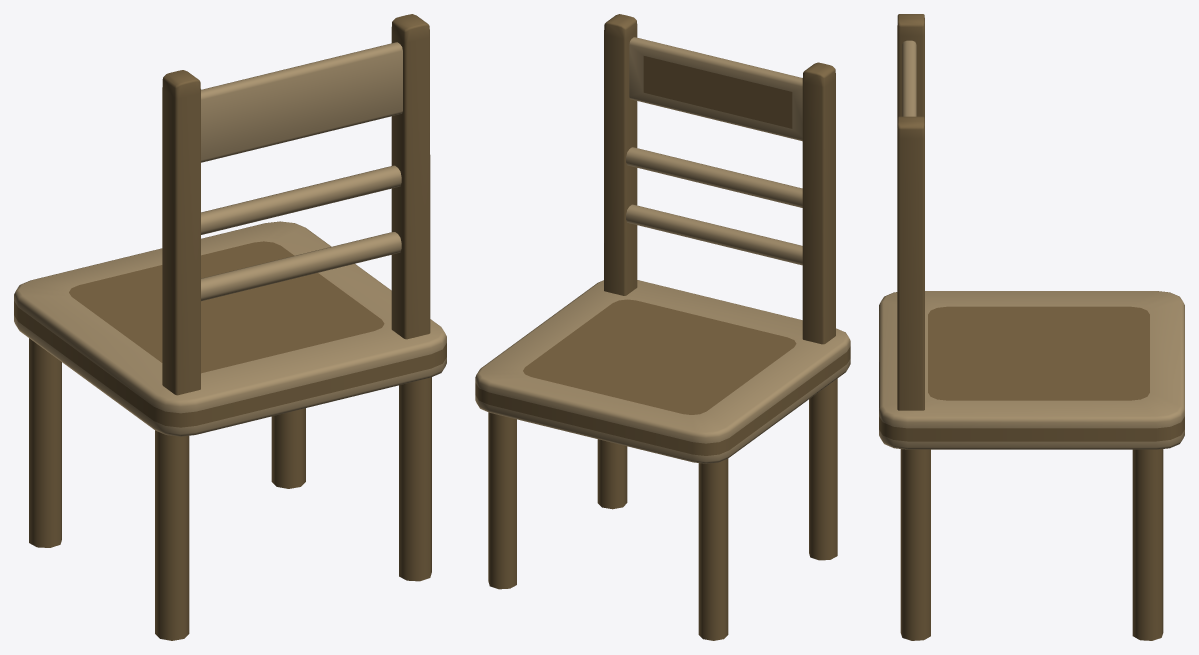
File: Chair.fbx
The picture shows the model from 3 angles, left to right: view 1: azimuth 30°, elevation 25°; view 2: azimuth 150°, elevation 25°; view 3: azimuth 270°, elevation 25°; orthographic projection. The views are drawn at different scales.
Visible parts, largest first — view 1: Chair; view 2: Chair; view 3: Chair.
Boxes of the visible parts, left/top/right/bottom form: Chair: left=14, top=14, right=446, bottom=640; Chair: left=475, top=14, right=850, bottom=640; Chair: left=879, top=14, right=1184, bottom=640.
Size of the model in its own units: 1.35 by 2.49 by 1.35.
